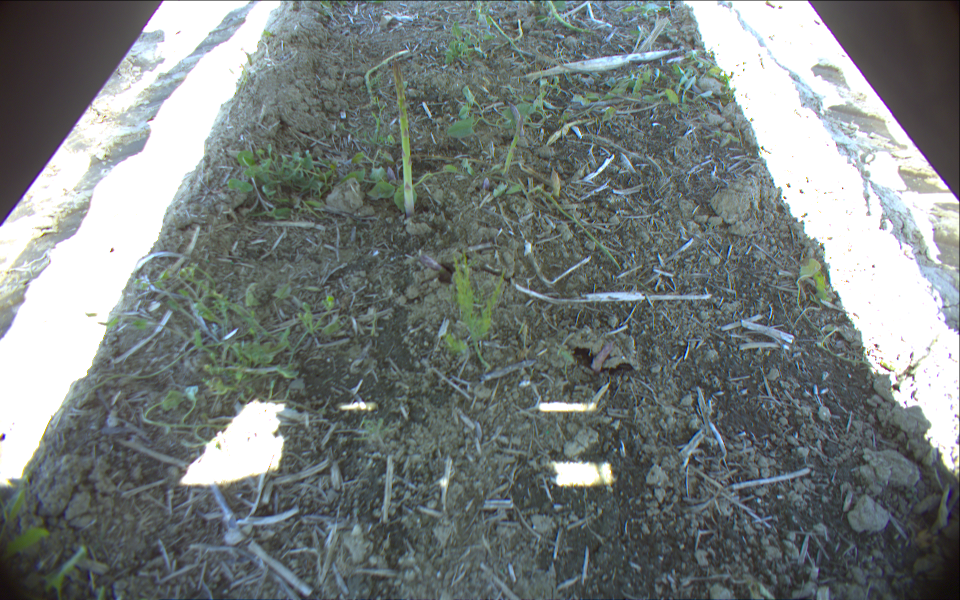aspa: (385, 54, 417, 218)
